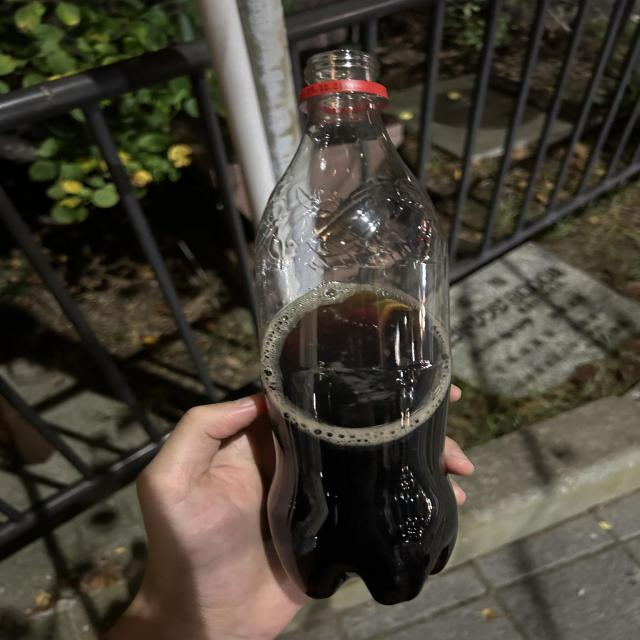medium: (255, 52, 458, 604)
